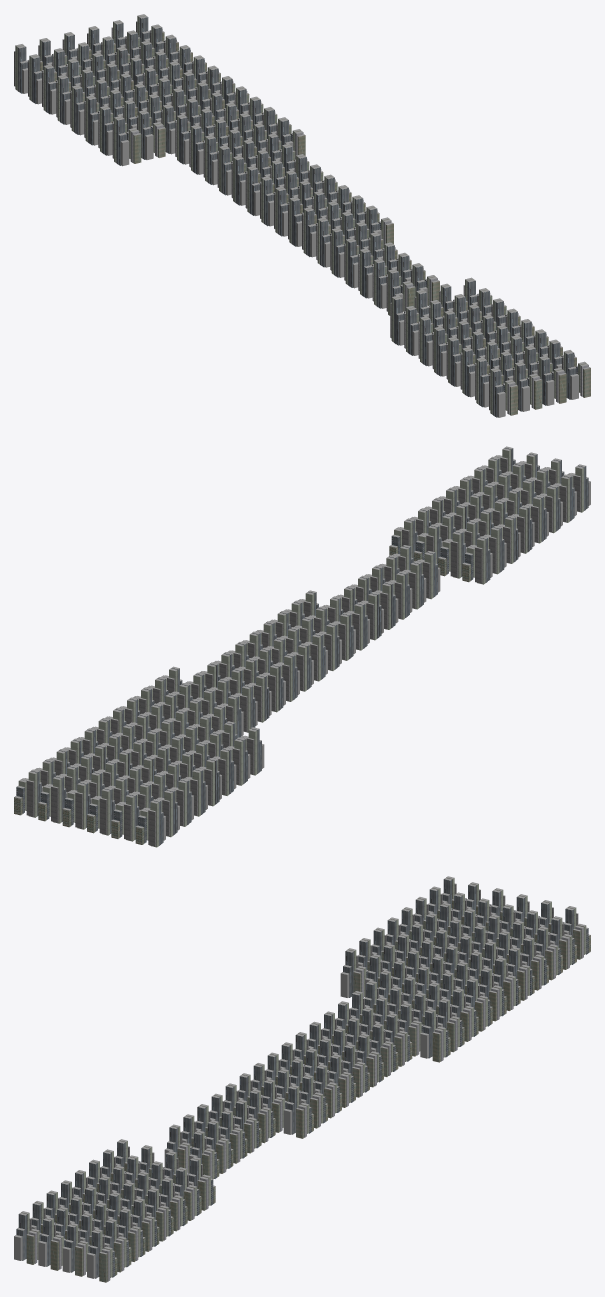
File: map4.obj
3 views of the same model, one above another, from view 1: azimuth 30°, elevation 25°; view 2: azimuth 150°, elevation 25°; view 3: azimuth 330°, elevation 25° (orthographic).
Visible parts, largest first — view 1: batiments.482_Cube.1242_Cube.047, batiments.487_Cube.1242_Cube.047, batiments.135_Cube.1242_Cube.047, batiments.343_Cube.1242_Cube.047, batiments.039_Cube.1242_Cube.047, batiments.904_Cube.1242_Cube.047, batiments.631_Cube.1242_Cube.047, batiments.338_Cube.1242_Cube.047, batiments.974_Cube.1242_Cube.047, batiments.208_Cube.1242_Cube.047, batiments.630_Cube.1242_Cube.047, batiments.034_Cube.1242_Cube.047 (+28 smaller); view 2: batiments.008_Cube.1242_Cube.047, batiments.974_Cube.1242_Cube.047, batiments.441_Cube.1242_Cube.047, batiments.337_Cube.1242_Cube.047, batiments.089_Cube.1242_Cube.047, batiments.033_Cube.1242_Cube.047, batiments.297_Cube.1242_Cube.047, batiments.646_Cube.1242_Cube.047, batiments.208_Cube.1242_Cube.047, batiments.1043_Cube.1242_Cube.047, batiments.338_Cube.1242_Cube.047, batiments.630_Cube.1242_Cube.047 (+27 smaller); view 3: batiments.039_Cube.1242_Cube.047, batiments.206_Cube.1242_Cube.047, batiments.776_Cube.1242_Cube.047, batiments.343_Cube.1242_Cube.047, batiments.487_Cube.1242_Cube.047, batiments.135_Cube.1242_Cube.047, batiments.482_Cube.1242_Cube.047, batiments.633_Cube.1242_Cube.047, batiments.067_Cube.1242_Cube.047, batiments.518_Cube.1242_Cube.047, batiments.874_Cube.1242_Cube.047, batiments.411_Cube.1242_Cube.047 (+27 smaller).
Part boxes in pixels (<box>): batiments.482_Cube.1242_Cube.047: <box>112,116,141,166</box>; batiments.487_Cube.1242_Cube.047: <box>489,367,517,417</box>; batiments.135_Cube.1242_Cube.047: <box>513,361,542,411</box>; batiments.343_Cube.1242_Cube.047: <box>537,356,566,405</box>; batiments.039_Cube.1242_Cube.047: <box>562,350,590,399</box>; batiments.904_Cube.1242_Cube.047: <box>137,110,165,159</box>; batiments.631_Cube.1242_Cube.047: <box>386,269,415,315</box>; batiments.338_Cube.1242_Cube.047: <box>84,95,113,145</box>; batiments.974_Cube.1242_Cube.047: <box>390,295,419,345</box>; batiments.208_Cube.1242_Cube.047: <box>344,238,373,288</box>; batiments.630_Cube.1242_Cube.047: <box>358,248,387,298</box>; batiments.034_Cube.1242_Cube.047: <box>70,85,99,135</box>; batiments.008_Cube.1242_Cube.047: <box>135,799,165,847</box>; batiments.974_Cube.1242_Cube.047: <box>462,536,492,584</box>; batiments.441_Cube.1242_Cube.047: <box>62,781,91,829</box>; batiments.337_Cube.1242_Cube.047: <box>14,769,42,817</box>; batiments.089_Cube.1242_Cube.047: <box>87,787,115,835</box>; batiments.033_Cube.1242_Cube.047: <box>38,775,67,823</box>; batiments.297_Cube.1242_Cube.047: <box>111,793,140,841</box>; batiments.646_Cube.1242_Cube.047: <box>438,530,467,578</box>; batiments.208_Cube.1242_Cube.047: <box>374,581,398,629</box>; batiments.1043_Cube.1242_Cube.047: <box>413,524,442,563</box>; batiments.338_Cube.1242_Cube.047: <box>212,747,236,795</box>; batiments.630_Cube.1242_Cube.047: <box>388,571,412,619</box>; batiments.039_Cube.1242_Cube.047: <box>87,1229,117,1282</box>; batiments.206_Cube.1242_Cube.047: <box>283,1085,313,1138</box>; batiments.776_Cube.1242_Cube.047: <box>420,1008,450,1062</box>; batiments.343_Cube.1242_Cube.047: <box>62,1223,90,1276</box>; batiments.487_Cube.1242_Cube.047: <box>14,1211,41,1264</box>; batiments.135_Cube.1242_Cube.047: <box>38,1217,66,1270</box>; batiments.482_Cube.1242_Cube.047: <box>340,948,368,997</box>; batiments.633_Cube.1242_Cube.047: <box>206,1120,233,1173</box>; batiments.067_Cube.1242_Cube.047: <box>371,1023,398,1076</box>; batiments.518_Cube.1242_Cube.047: <box>385,1013,412,1066</box>; batiments.874_Cube.1242_Cube.047: <box>521,936,548,990</box>; batiments.411_Cube.1242_Cube.047: <box>132,1198,159,1251</box>.
Bounding box in the file's own units: 20.73 × 6.17 × 117.
20 materials, 10 textured.
